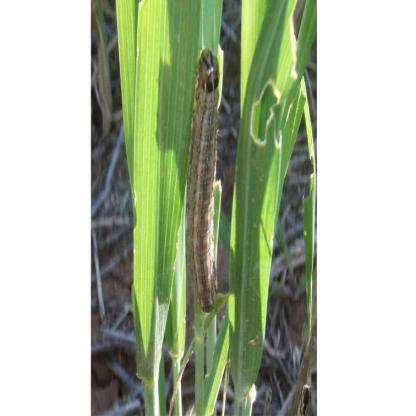armyworm: (184, 41, 226, 318)
